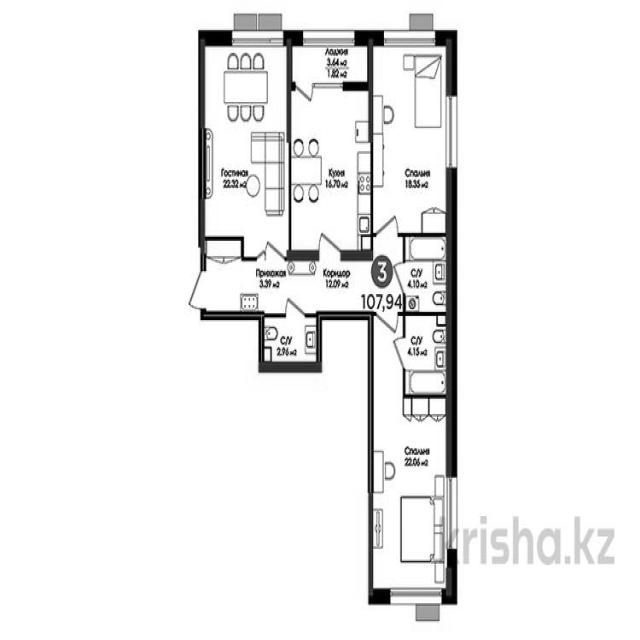balcony: (293, 35, 370, 83)
bathroom: (405, 240, 450, 314), (262, 315, 320, 371), (408, 318, 447, 394)
hallway: (204, 256, 368, 314)
kitchen: (291, 90, 371, 252)
living_room: (203, 38, 289, 238), (371, 396, 451, 597), (372, 41, 448, 234)
